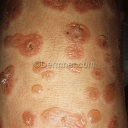Pemphigoid: (1, 34, 116, 126)
